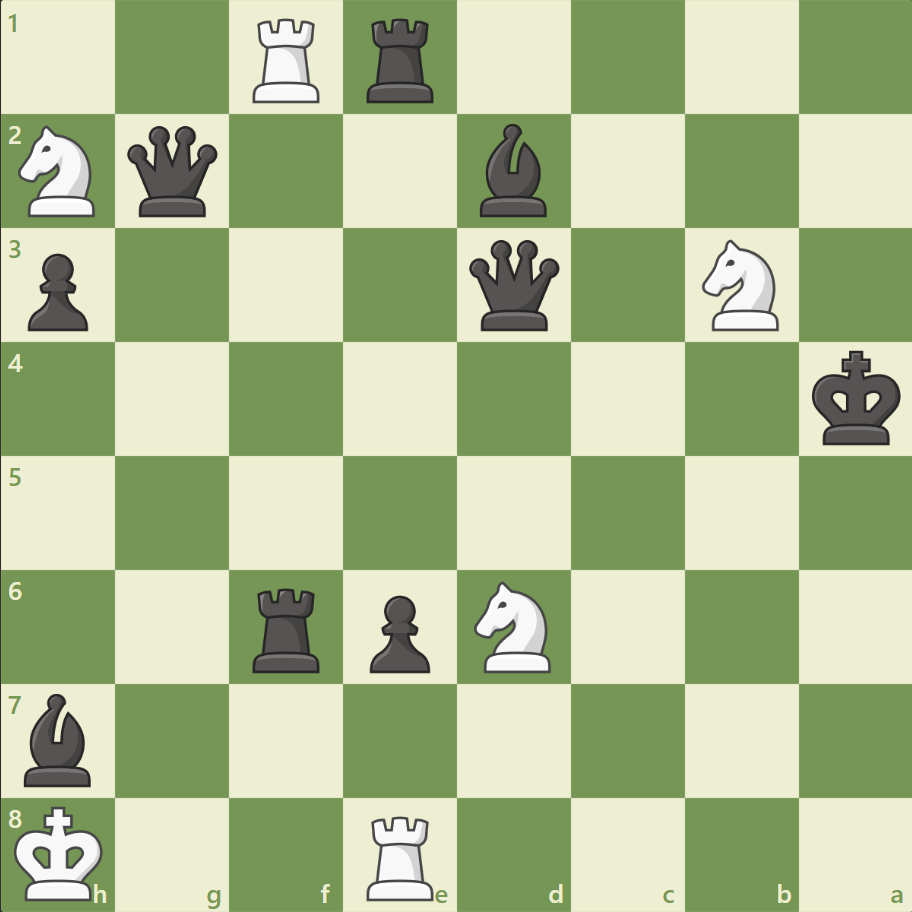K: (11, 798, 111, 906)
N: (692, 234, 789, 337), (465, 575, 562, 677), (11, 121, 108, 223)
R: (246, 12, 329, 109), (360, 806, 442, 904)
b: (17, 687, 101, 790), (471, 120, 555, 222)
k: (806, 344, 906, 452)
p: (20, 246, 95, 337), (361, 586, 435, 677)
q: (124, 122, 223, 222), (464, 236, 563, 335)
r: (246, 579, 329, 676), (360, 12, 442, 109)
